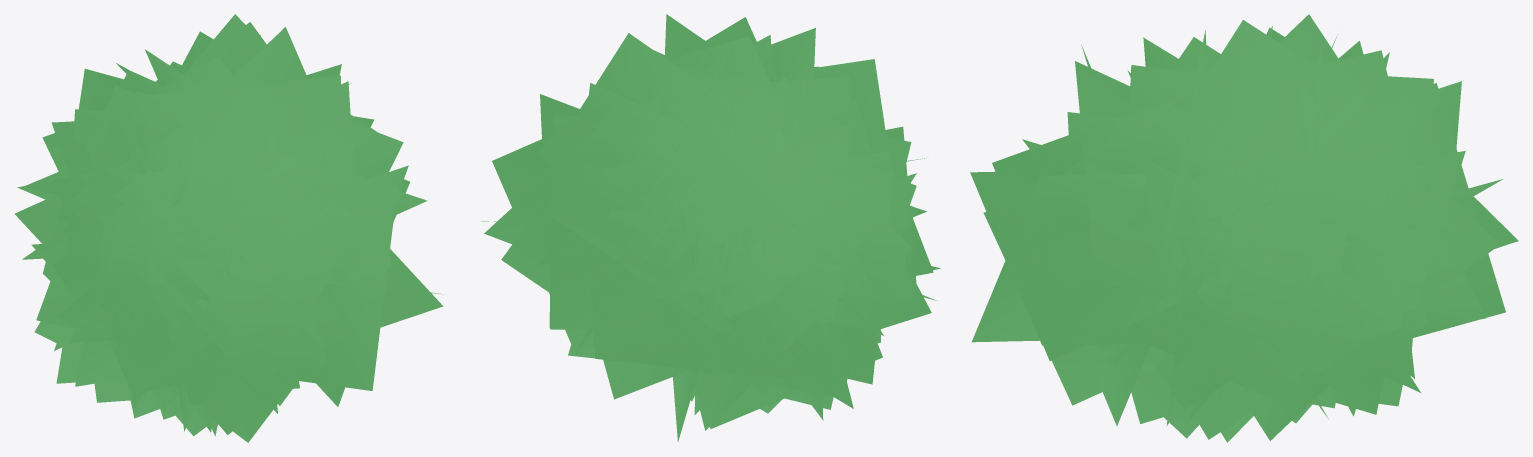
The model's file is leaf_3.glb.
The picture shows the model from 3 angles, left to right: view 1: azimuth 30°, elevation 25°; view 2: azimuth 150°, elevation 25°; view 3: azimuth 270°, elevation 25°; orthographic projection. The views are drawn at different scales.
Parts seen in each view (by area): view 1: Leaf_04_LOD1; view 2: Leaf_04_LOD1; view 3: Leaf_04_LOD1.
Boxes of the visible parts, x1,y1,x2,y2 form: Leaf_04_LOD1: [14, 14, 445, 442]; Leaf_04_LOD1: [481, 14, 940, 441]; Leaf_04_LOD1: [970, 14, 1518, 442].
Size of the model in its own units: 0.9785 by 0.9903 by 1.16.
